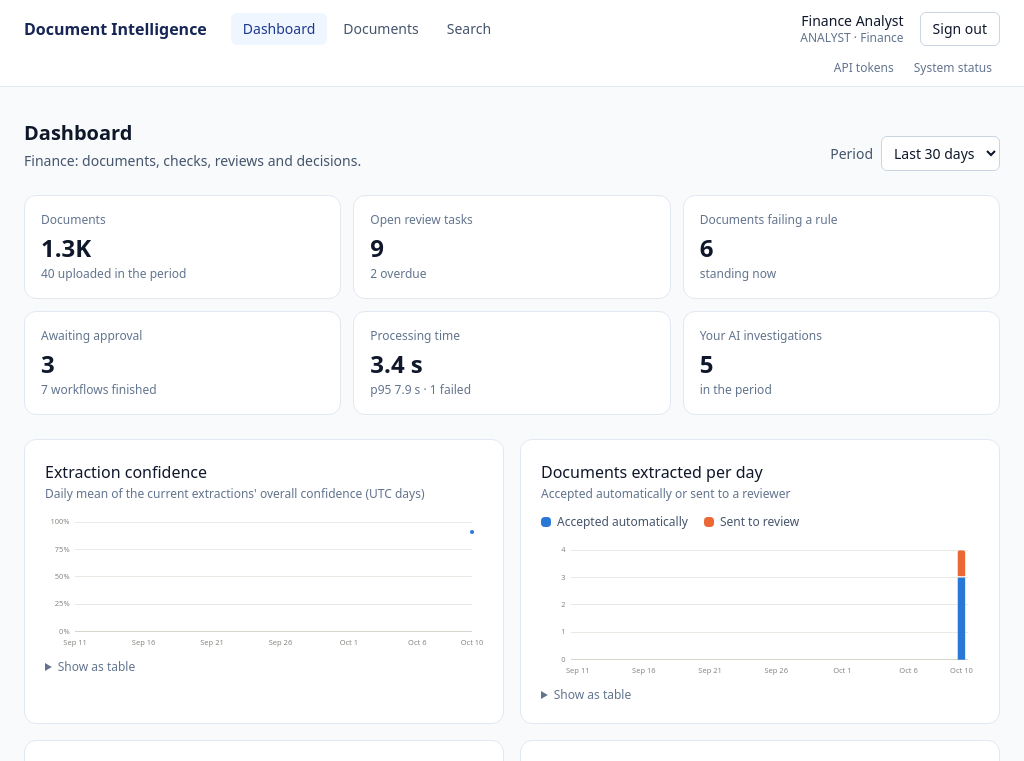
dashboard › changes the period for every figure at once
Expected: the list named "Key figures" is shown, [24,195,1000,415]
Select "Last 7 days" in the dropdown labelled "Period" at (940,154), box [881,136,1000,171]
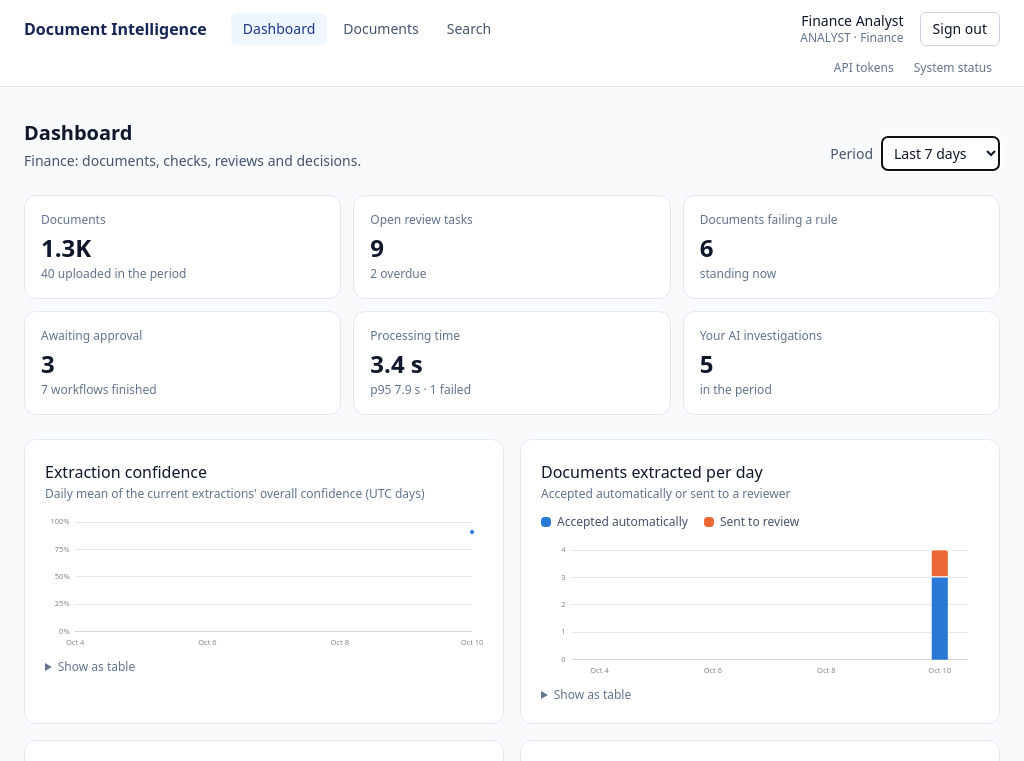
Click the heading "Show as table" below "25%" at (96,666), box [58,658,135,675]
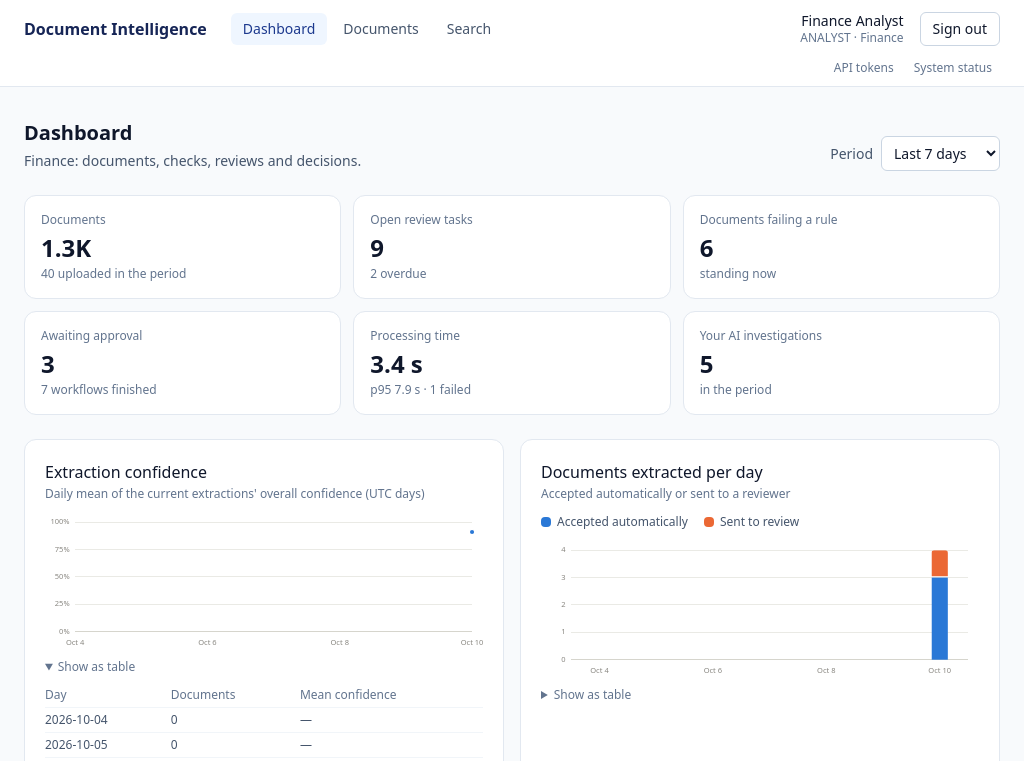
Now the number of rows is 8
